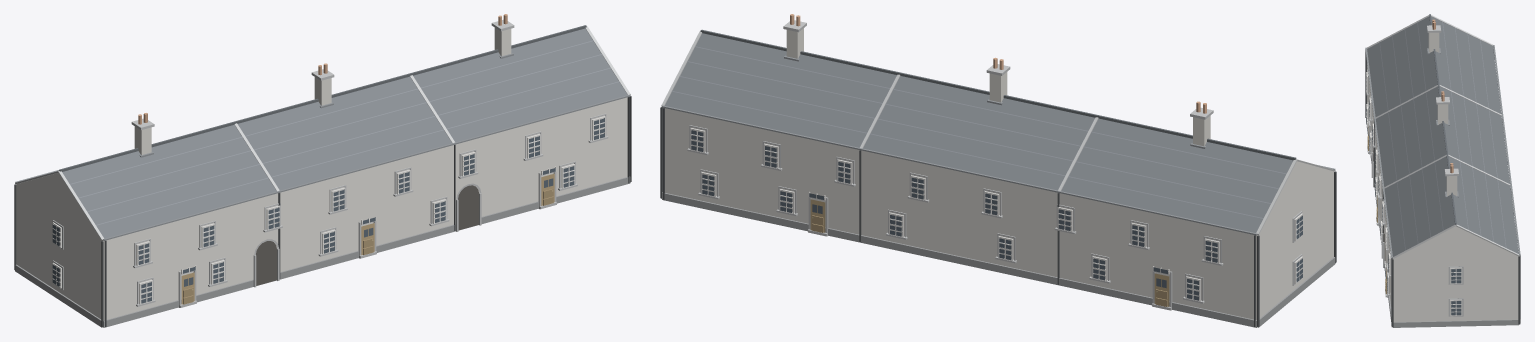
3 views of the same model, side by side, from view 1: azimuth 30°, elevation 25°; view 2: azimuth 150°, elevation 25°; view 3: azimuth 270°, elevation 25° (orthographic). The views are drawn at different scales.
Parts seen in each view (by area): view 1: harl, slate, stone_band, plinth, frame, slate_lt, slate_dk, lead, pend_dark, pipe, chim_render, door_wood (+1 smaller); view 2: harl, slate, stone_band, plinth, frame, slate_lt, slate_dk, lead, pipe, chim_render, door_wood; view 3: slate, harl, stone_band, slate_lt, lead, plinth, frame, chim_render, pipe, slate_dk, pot.
Boxes of the visible parts, x1,y1,x2,y2 form: harl: [16, 97, 627, 320]; slate: [62, 28, 627, 238]; stone_band: [15, 19, 630, 307]; plinth: [15, 176, 630, 327]; frame: [52, 116, 605, 304]; slate_lt: [70, 40, 619, 225]; slate_dk: [59, 25, 586, 171]; lead: [15, 53, 630, 240]; pend_dark: [256, 185, 478, 285]; pipe: [14, 96, 631, 326]; chim_render: [134, 28, 511, 154]; door_wood: [181, 173, 554, 304]; harl: [665, 108, 1333, 320]; slate: [665, 33, 1293, 232]; stone_band: [661, 20, 1335, 310]; plinth: [661, 192, 1335, 327]; frame: [690, 128, 1302, 301]; slate_lt: [672, 46, 1286, 218]; slate_dk: [700, 29, 1296, 160]; lead: [661, 55, 1335, 235]; pipe: [660, 107, 1336, 326]; chim_render: [786, 28, 1210, 146]; door_wood: [810, 199, 1169, 306]; slate: [1367, 16, 1518, 256]; harl: [1367, 63, 1518, 322]; stone_band: [1366, 15, 1519, 316]; slate_lt: [1379, 21, 1506, 250]; lead: [1365, 45, 1520, 258]; plinth: [1366, 113, 1520, 327]; frame: [1366, 71, 1516, 316]; chim_render: [1428, 32, 1457, 196]; pipe: [1365, 47, 1520, 327]; slate_dk: [1429, 14, 1456, 224]; pot: [1432, 19, 1453, 173].
Bounding box in the file's own units: 38.7 × 10.84 × 11.88.
